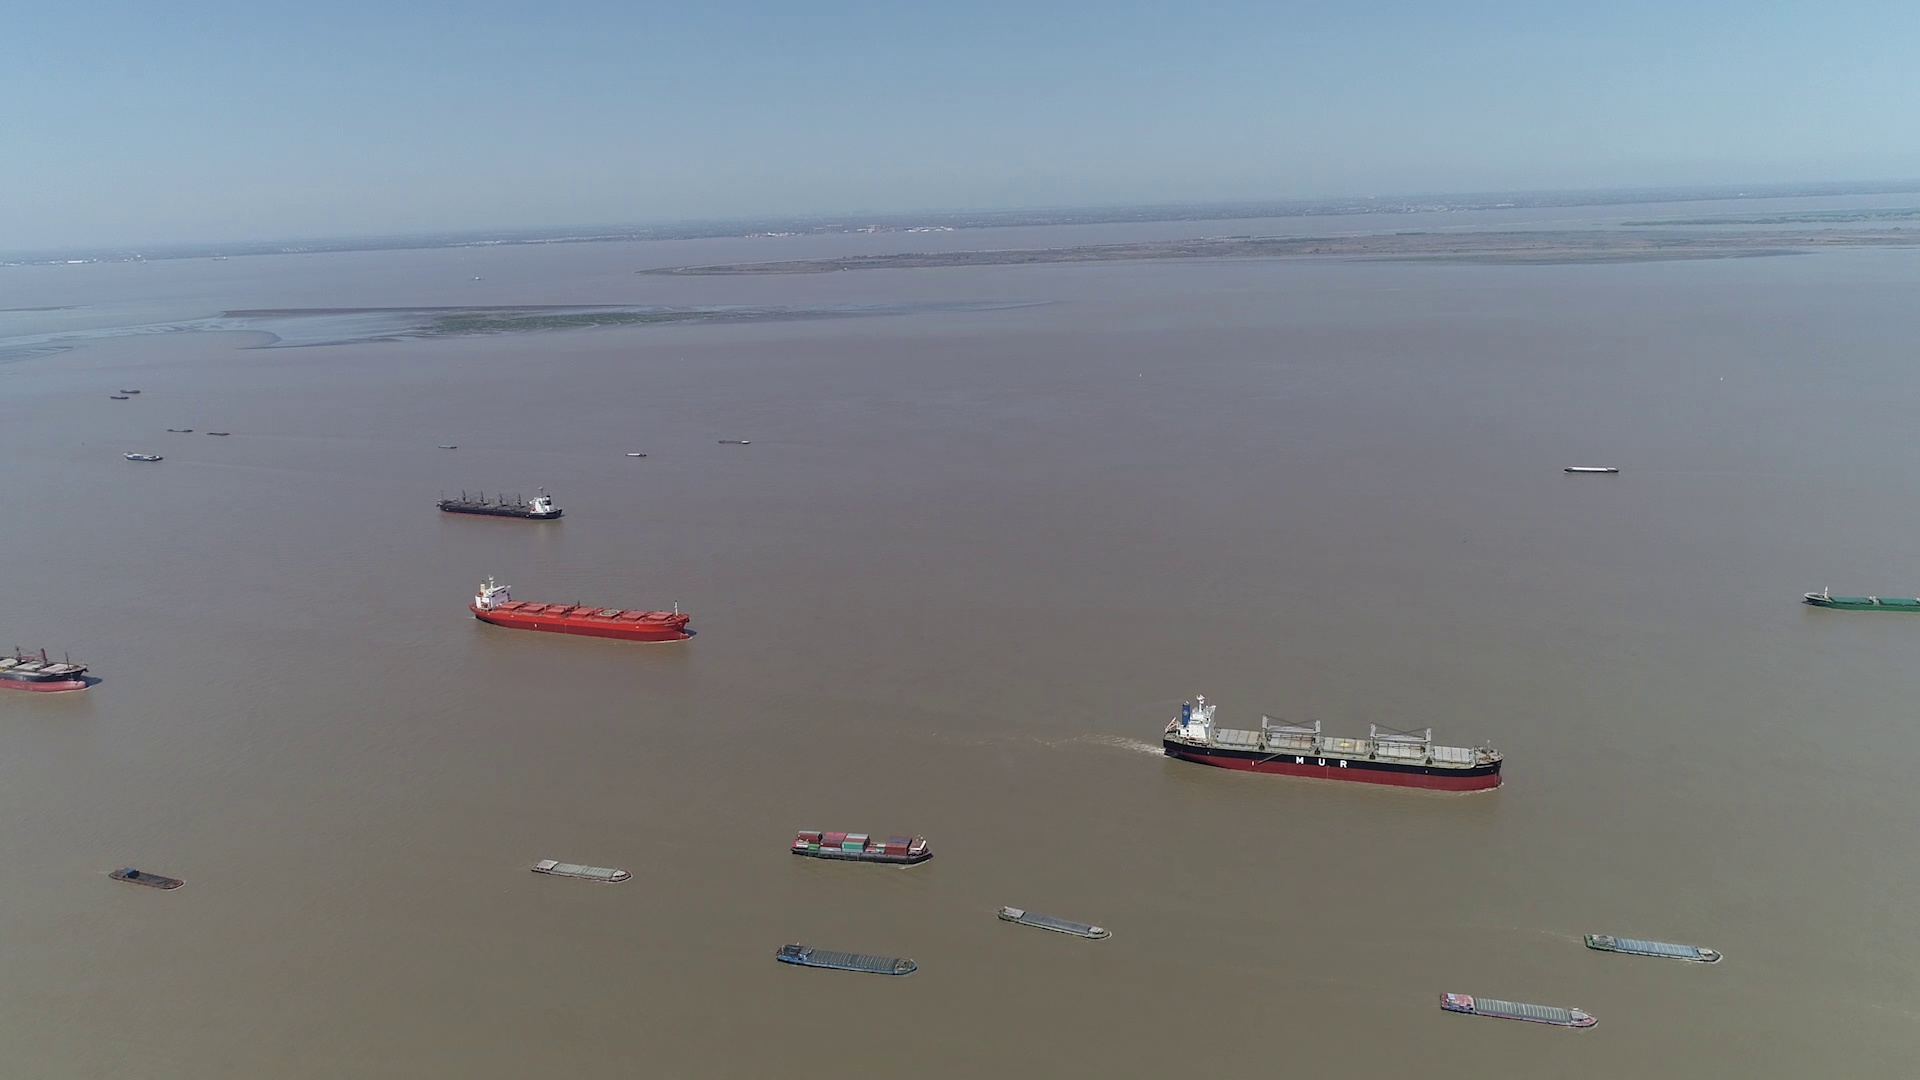ship: (1164, 698, 1505, 791), (473, 576, 690, 644), (0, 633, 98, 695), (1441, 992, 1597, 1027), (789, 829, 934, 865), (779, 943, 920, 978), (997, 905, 1114, 942), (1582, 932, 1721, 963), (436, 487, 560, 520), (1803, 588, 1919, 613), (529, 857, 632, 884), (109, 866, 183, 891), (124, 448, 164, 462), (1565, 465, 1617, 473)
